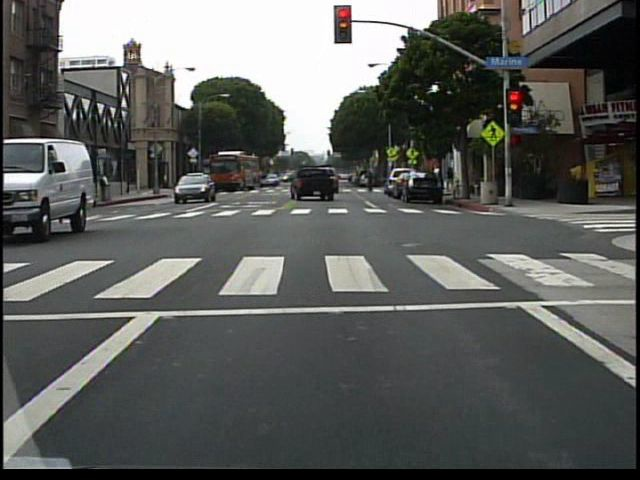person: (98, 168, 113, 204)
